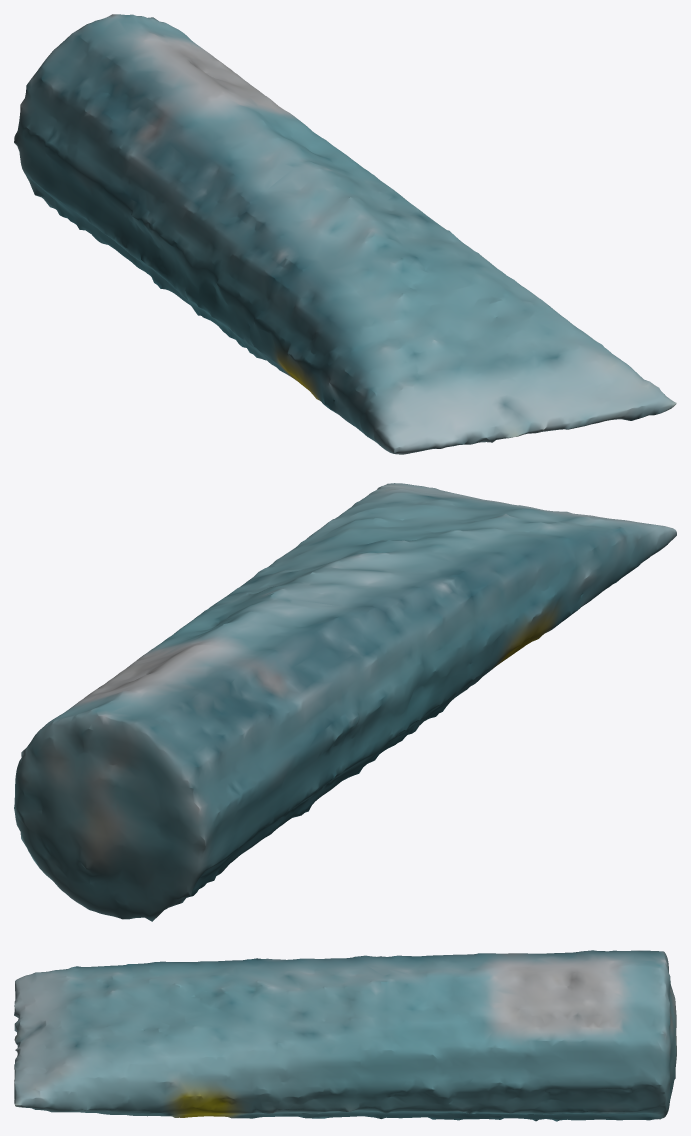
The model's file is oil.glb.
3 renders of one model, top to bottom at view 1: azimuth 30°, elevation 25°; view 2: azimuth 150°, elevation 25°; view 3: azimuth 270°, elevation 25°, orthographic. The views are drawn at different scales.
Size of the model in its own units: 0.3807 by 0.2498 by 0.9931.
